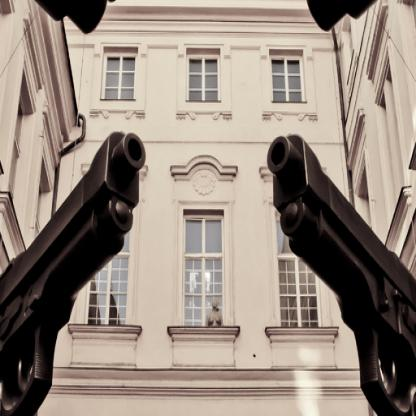gun: (0, 131, 148, 415), (267, 131, 415, 415)
